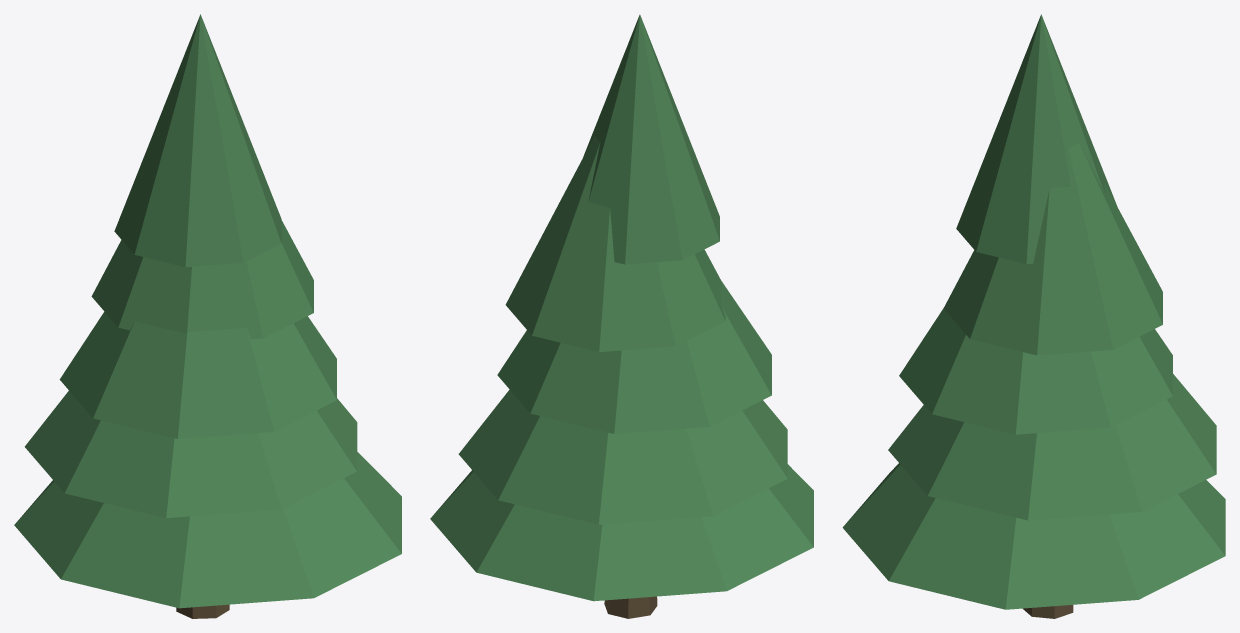
The model's file is source.gltf.
3 views of the same model, side by side, from view 1: azimuth 30°, elevation 25°; view 2: azimuth 150°, elevation 25°; view 3: azimuth 270°, elevation 25° (orthographic).
Size of the model in its own units: 4.43 by 7.43 by 4.36.
